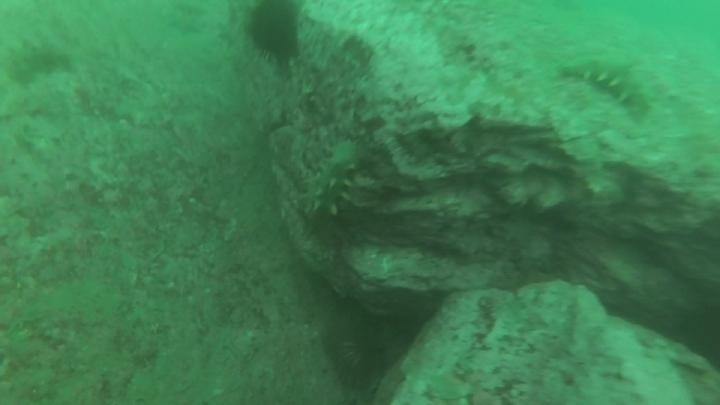echinus: (319, 312, 395, 391), (243, 1, 305, 65)
holothurian: (558, 52, 656, 120), (301, 133, 367, 220), (1, 36, 75, 88)
starfish: (164, 11, 208, 39)
